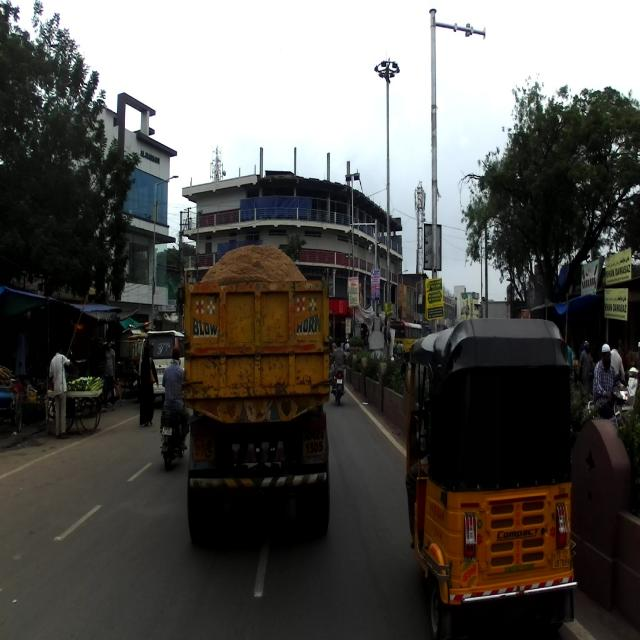autorickshaw: (397, 317, 578, 639)
motorcycle: (158, 394, 190, 472)
truck: (181, 246, 337, 558)
